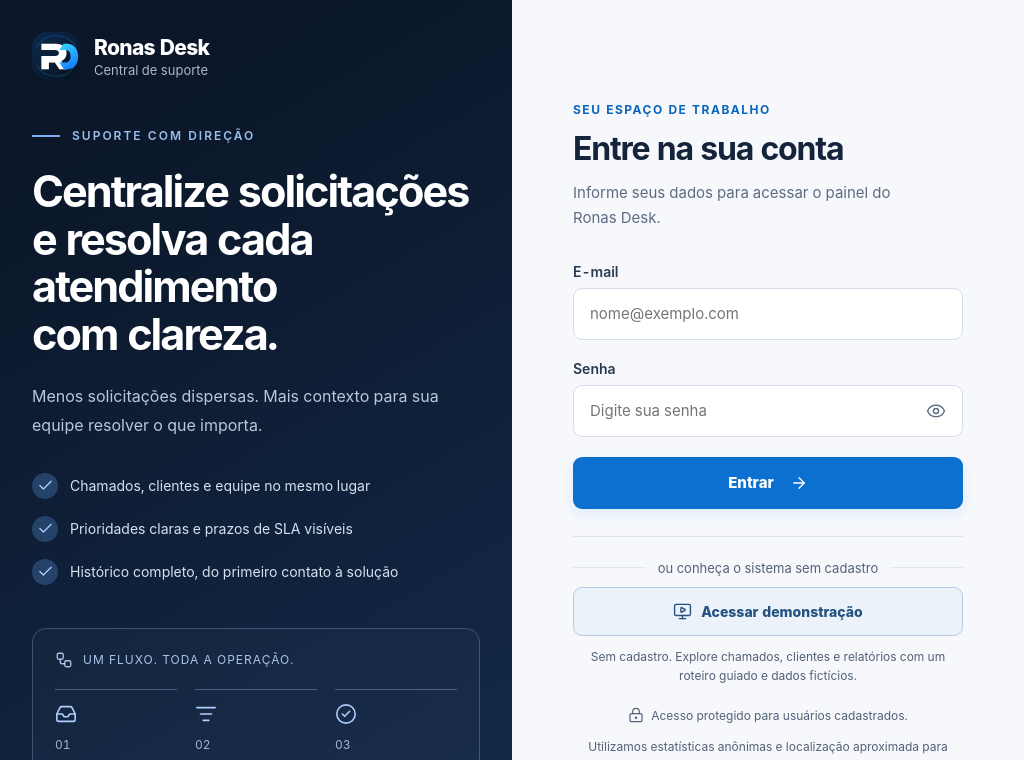
Test: Login › exibe a mensagem de erro retornada pela API quando o login falha
The width and height of the screenshot is (1024, 760).
In the field labelled "E-mail": (768, 314) [573,288,963,340], type "ronael@example.com"
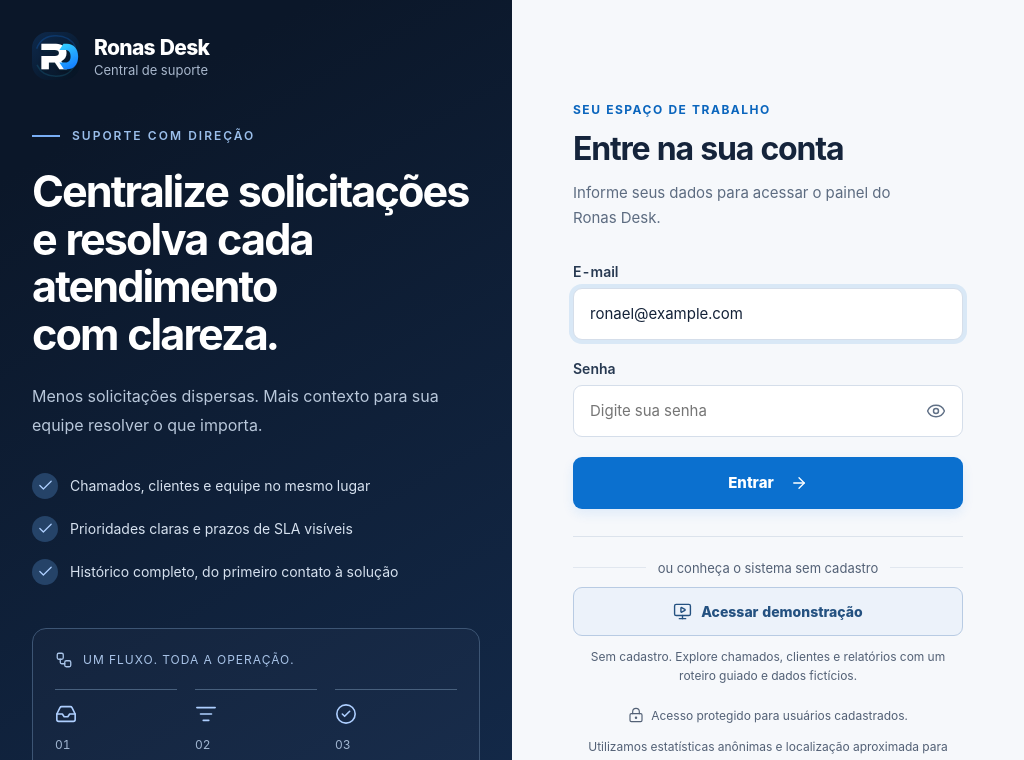
In the password field labelled "Senha": (768, 411) [573,385,963,437], type "senha-errada"
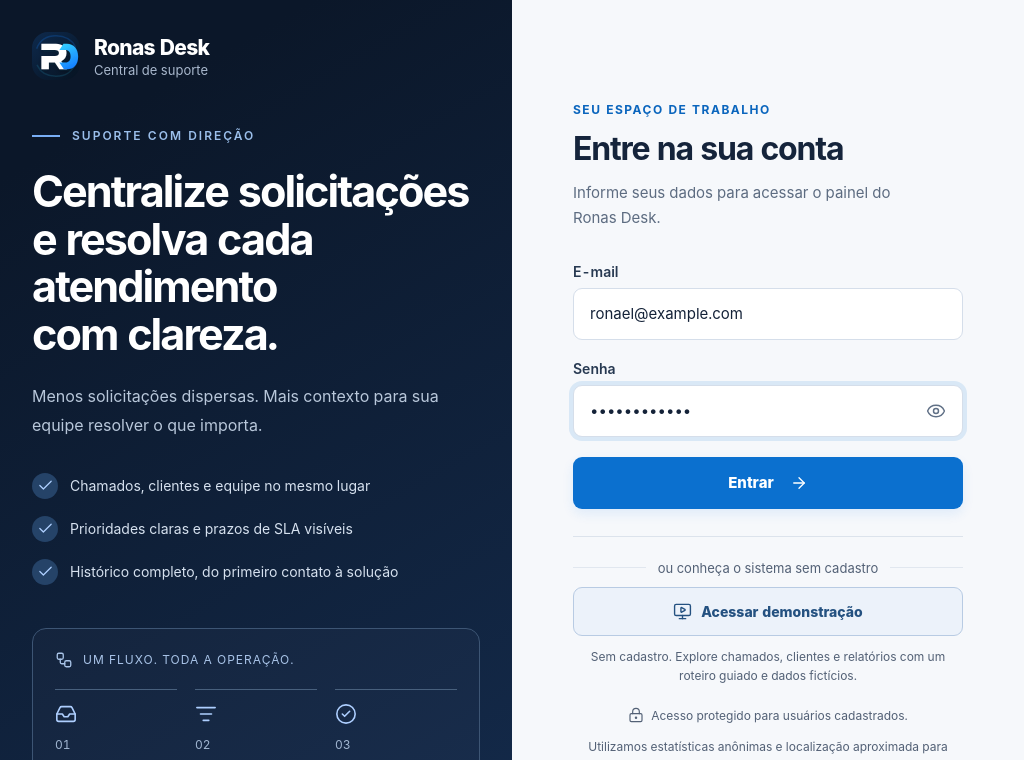
Click the button "Entrar": click(768, 483) [573,457,963,509]
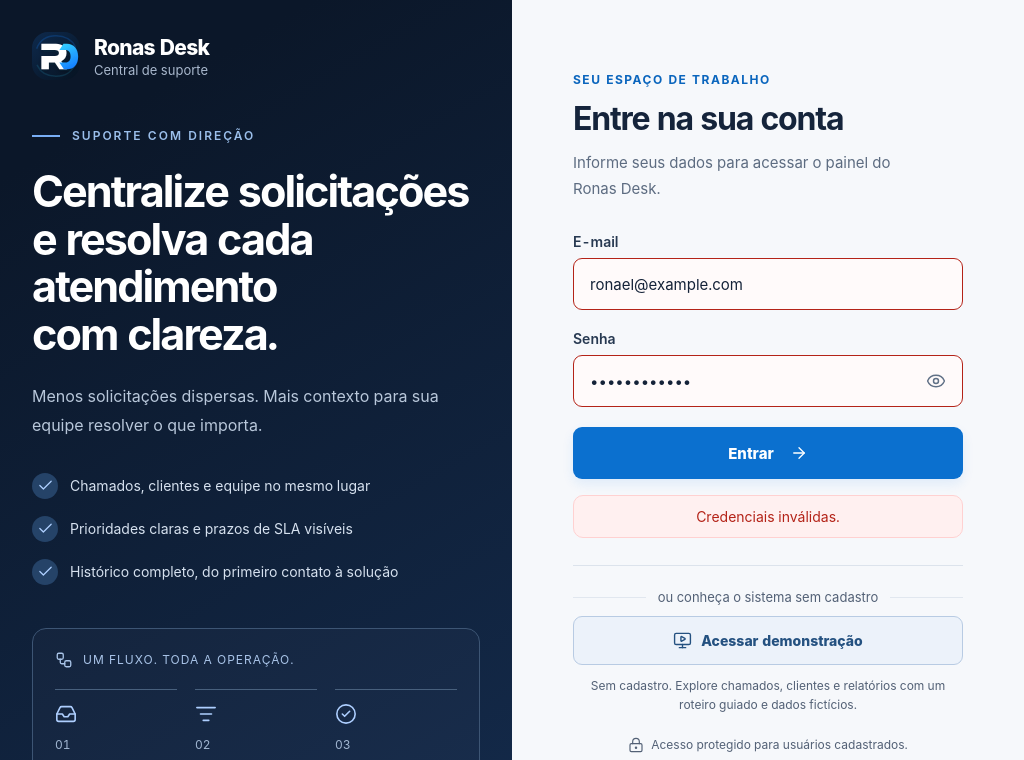
Now the message reads "Credenciais inválidas.", box [696,508,840,525]
